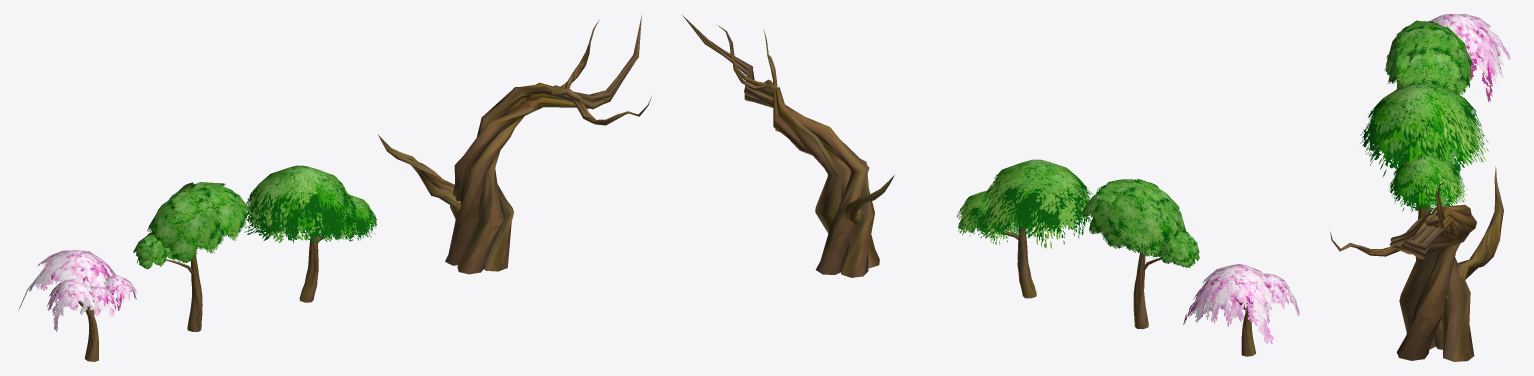
File: Trees.fbx
The picture shows the model from 3 angles, left to right: view 1: azimuth 30°, elevation 25°; view 2: azimuth 150°, elevation 25°; view 3: azimuth 270°, elevation 25°; orthographic projection. The views are drawn at different scales.
Parts seen in each view (by area): view 1: twist_tree, pSphere18, pDisc24Shape, pSphere11, New_tree_2, New_tree_1, New_Tree_3; view 2: twist_tree, pSphere18, pDisc24Shape, pSphere11, New_tree_2, New_tree_1, New_Tree_3; view 3: twist_tree, pSphere18, pDisc24Shape, pSphere11.
Boxes of the visible parts, bbox=[...] form: twist_tree: bbox=[378, 15, 651, 274]; pSphere18: bbox=[244, 165, 376, 244]; pDisc24Shape: bbox=[133, 182, 252, 269]; pSphere11: bbox=[18, 249, 137, 331]; New_tree_2: bbox=[166, 255, 202, 331]; New_tree_1: bbox=[299, 203, 326, 302]; New_Tree_3: bbox=[78, 301, 98, 361]; twist_tree: bbox=[682, 15, 894, 277]; pSphere18: bbox=[957, 159, 1093, 248]; pDisc24Shape: bbox=[1081, 179, 1199, 267]; pSphere11: bbox=[1183, 264, 1299, 343]; New_tree_2: bbox=[1133, 250, 1160, 329]; New_tree_1: bbox=[1002, 225, 1036, 298]; New_Tree_3: bbox=[1239, 302, 1255, 356]; twist_tree: bbox=[1330, 166, 1503, 361]; pSphere18: bbox=[1360, 82, 1488, 212]; pDisc24Shape: bbox=[1386, 20, 1473, 94]; pSphere11: bbox=[1384, 14, 1510, 101].
Size of the model in its own units: 29.28 by 9.63 by 6.87.
